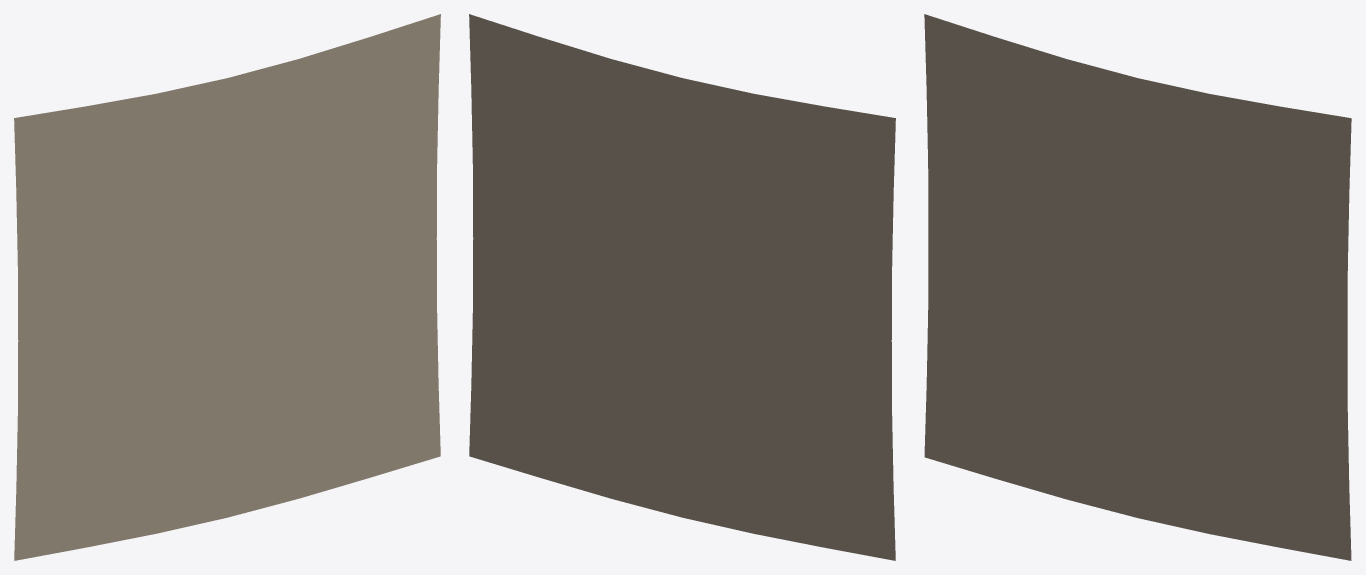
File: SM_NetWall_3x3.fbx
The picture shows the model from 3 angles, left to right: view 1: azimuth 30°, elevation 25°; view 2: azimuth 150°, elevation 25°; view 3: azimuth 330°, elevation 25°; orthographic projection.
Visible parts, largest first — view 1: SM_Net_3x3; view 2: SM_Net_3x3; view 3: SM_Net_3x3.
Part boxes in pixels (x1,y1,x2,y2): SM_Net_3x3: [14, 14, 440, 560]; SM_Net_3x3: [469, 14, 895, 560]; SM_Net_3x3: [924, 14, 1351, 560].
Size of the model in its own units: 301 by 305 by 7.75e-07.
